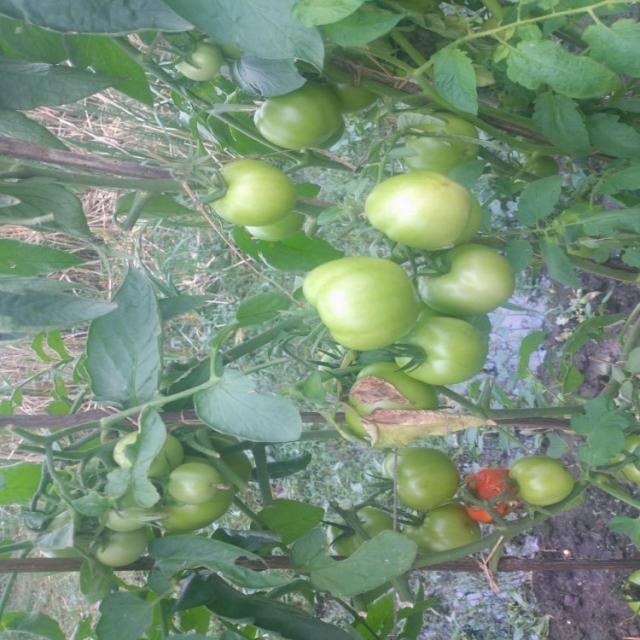tomato: (298, 251, 426, 351), (360, 166, 482, 260), (395, 309, 494, 387), (204, 155, 307, 224), (416, 239, 512, 313), (348, 360, 434, 436), (249, 91, 344, 148), (384, 449, 462, 516), (510, 449, 581, 509), (421, 498, 479, 567), (168, 463, 234, 512), (465, 463, 514, 522), (90, 495, 150, 537), (98, 526, 152, 570), (163, 39, 222, 77)
